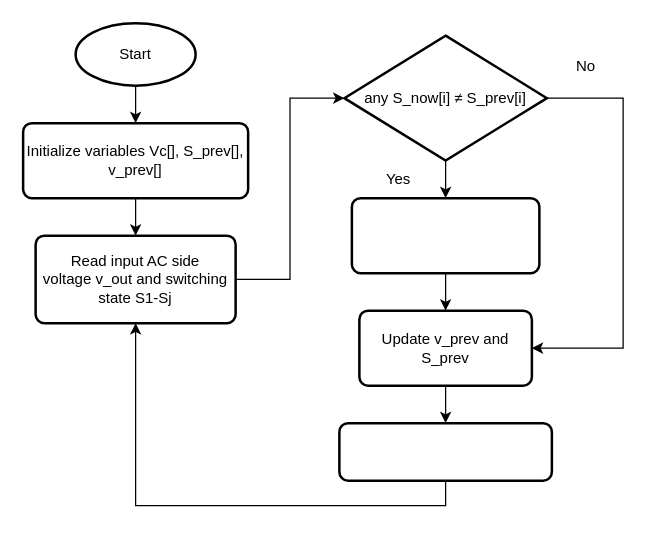
The diagram is 655 pixels wide and 538 high, and some of its shapes have lost their labels. Here are the shapes that lost their labels. From the top down, the centre of each, then its label:
point 445,235: changed_cell = i and Vc[i] = |v_now - v_prev|
point 445,451: Output Vc[] → OutputSignal
